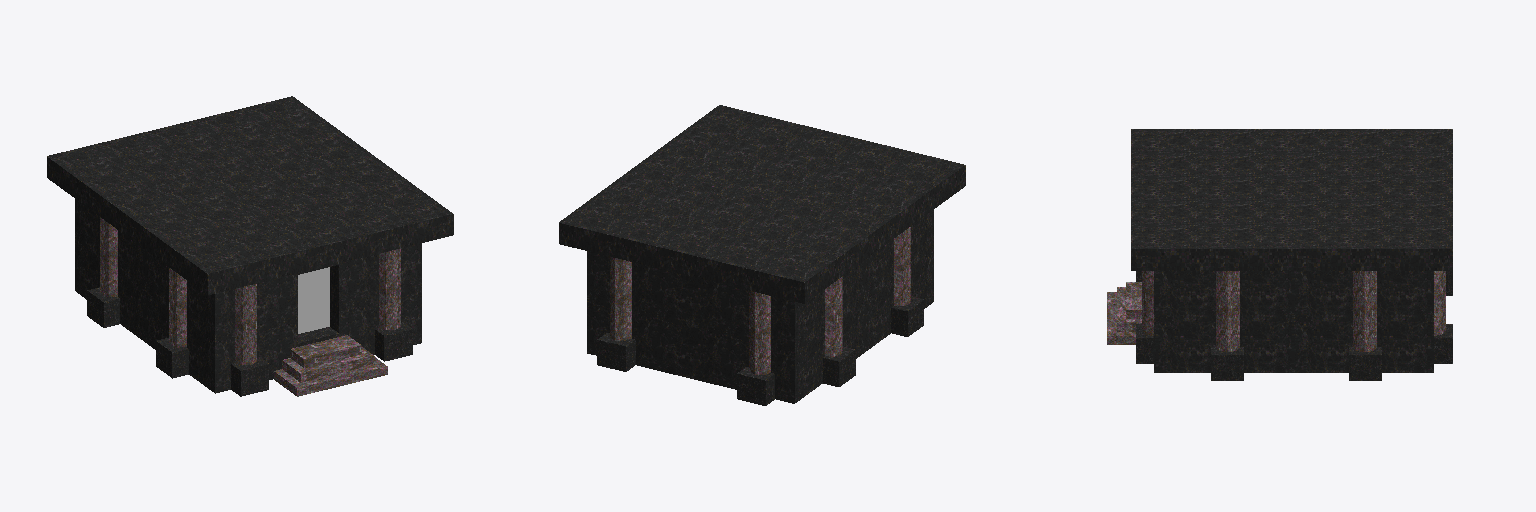
3 views of the same model, side by side, from view 1: azimuth 30°, elevation 25°; view 2: azimuth 150°, elevation 25°; view 3: azimuth 270°, elevation 25° (orthographic).
Visible parts, largest first — view 1: model43138-node_model43138; view 2: model43138-node_model43138; view 3: model43138-node_model43138.
Boxes of the visible parts, x1=… form: model43138-node_model43138: x1=47, y1=96, x2=453, y2=396; model43138-node_model43138: x1=559, y1=105, x2=965, y2=405; model43138-node_model43138: x1=1107, y1=129, x2=1452, y2=380.
Bounding box in the file's own units: 12 × 6.21 × 14.6.
3 materials, 2 textured.